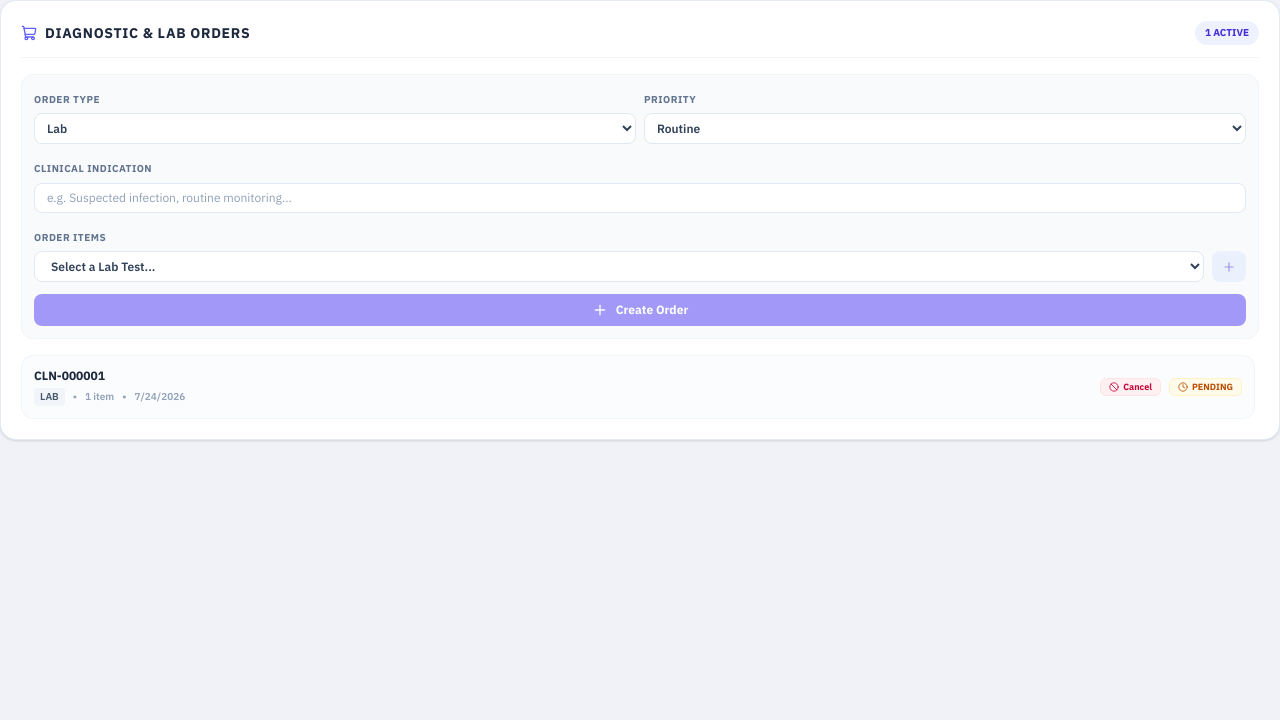
Test: DoctorOrdersPanel Component Tests › renders safe error message on network failure during cancellation
Click the button "Cancel": (1131, 387) [1100,378,1161,396]
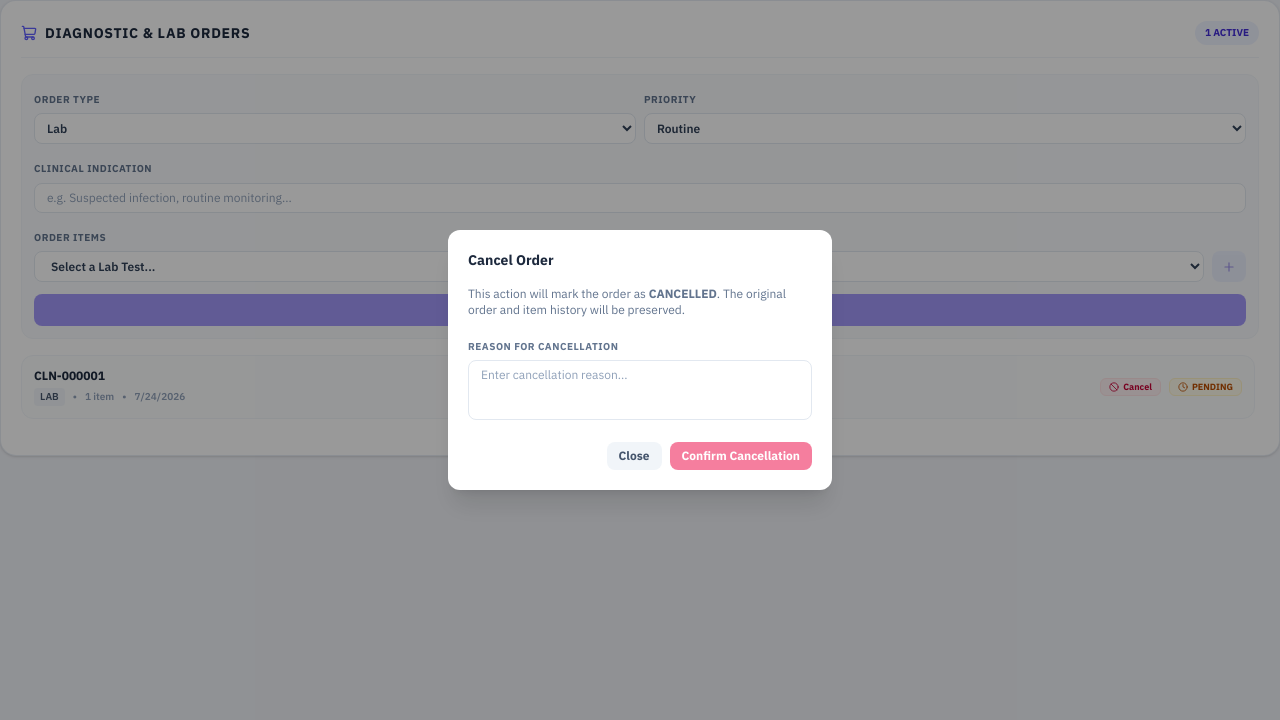
In the text box with placeholder "Enter cancellation reason...": (640, 390) [468,360,812,420], type "Test reason"
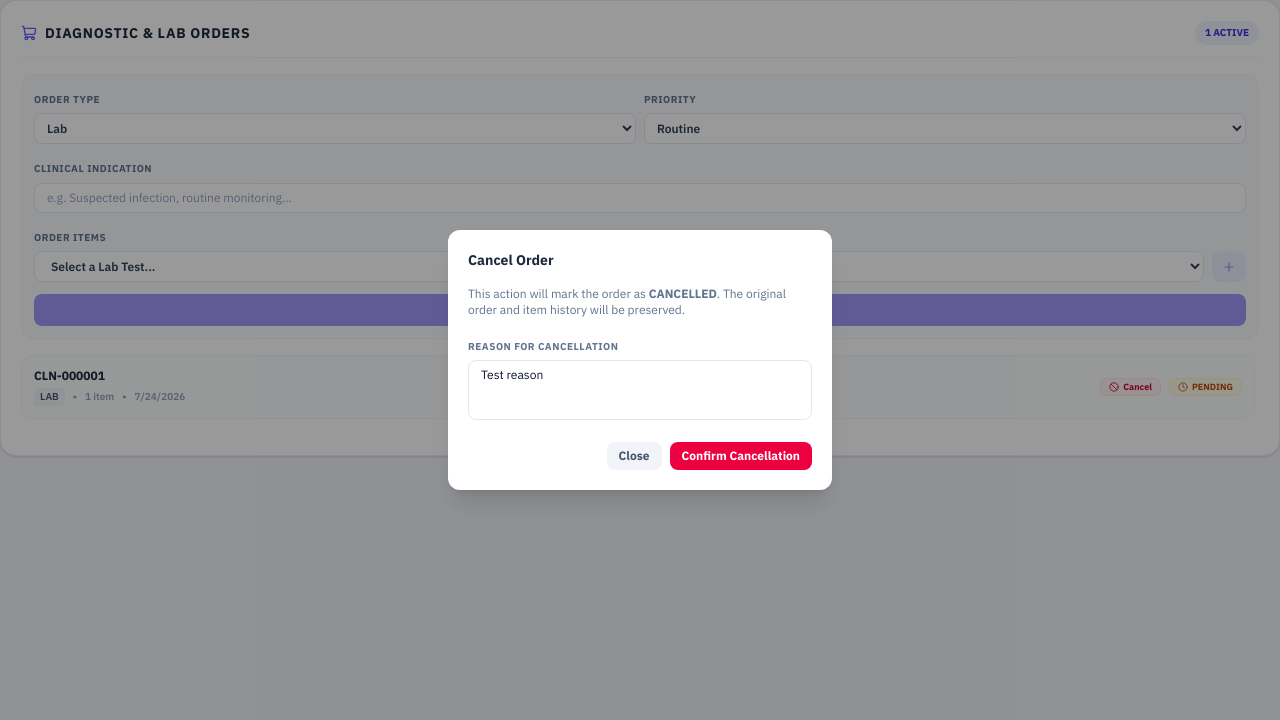
Click the button "Confirm Cancellation": (741, 456) [670,442,812,470]
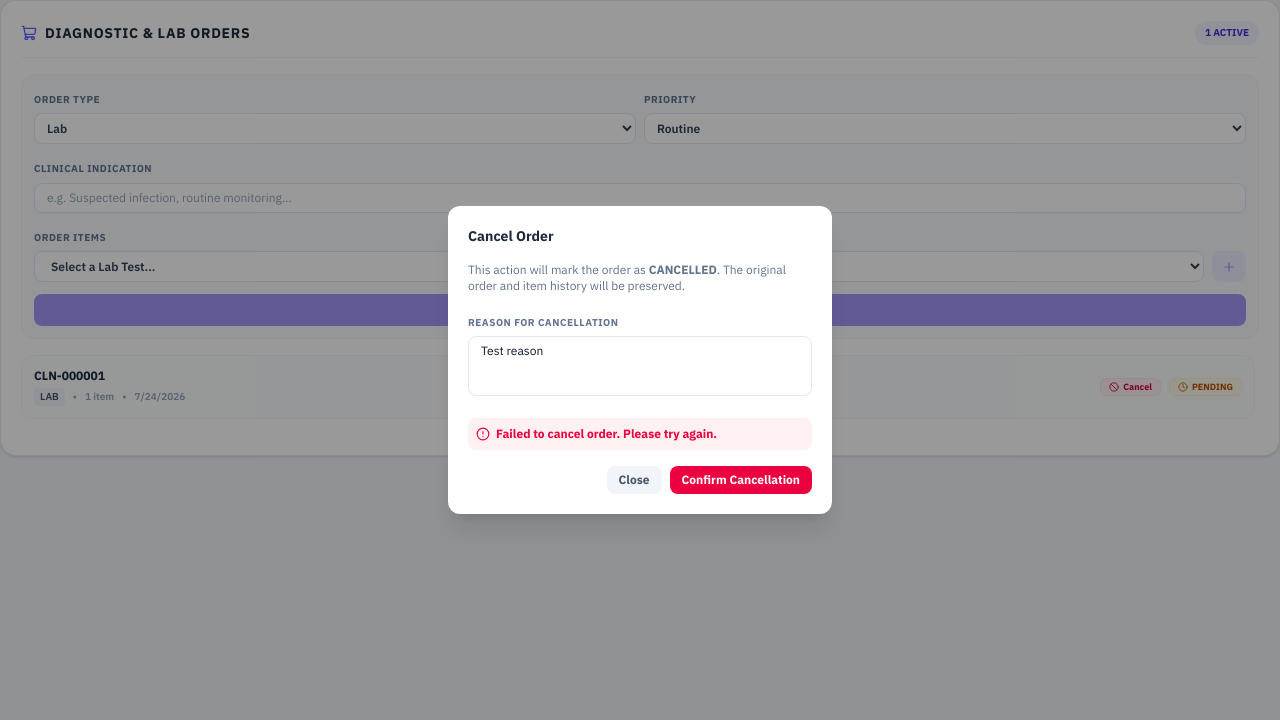
Expected: the text "Failed to cancel order. Please try again." is shown, [468,418,812,450]
